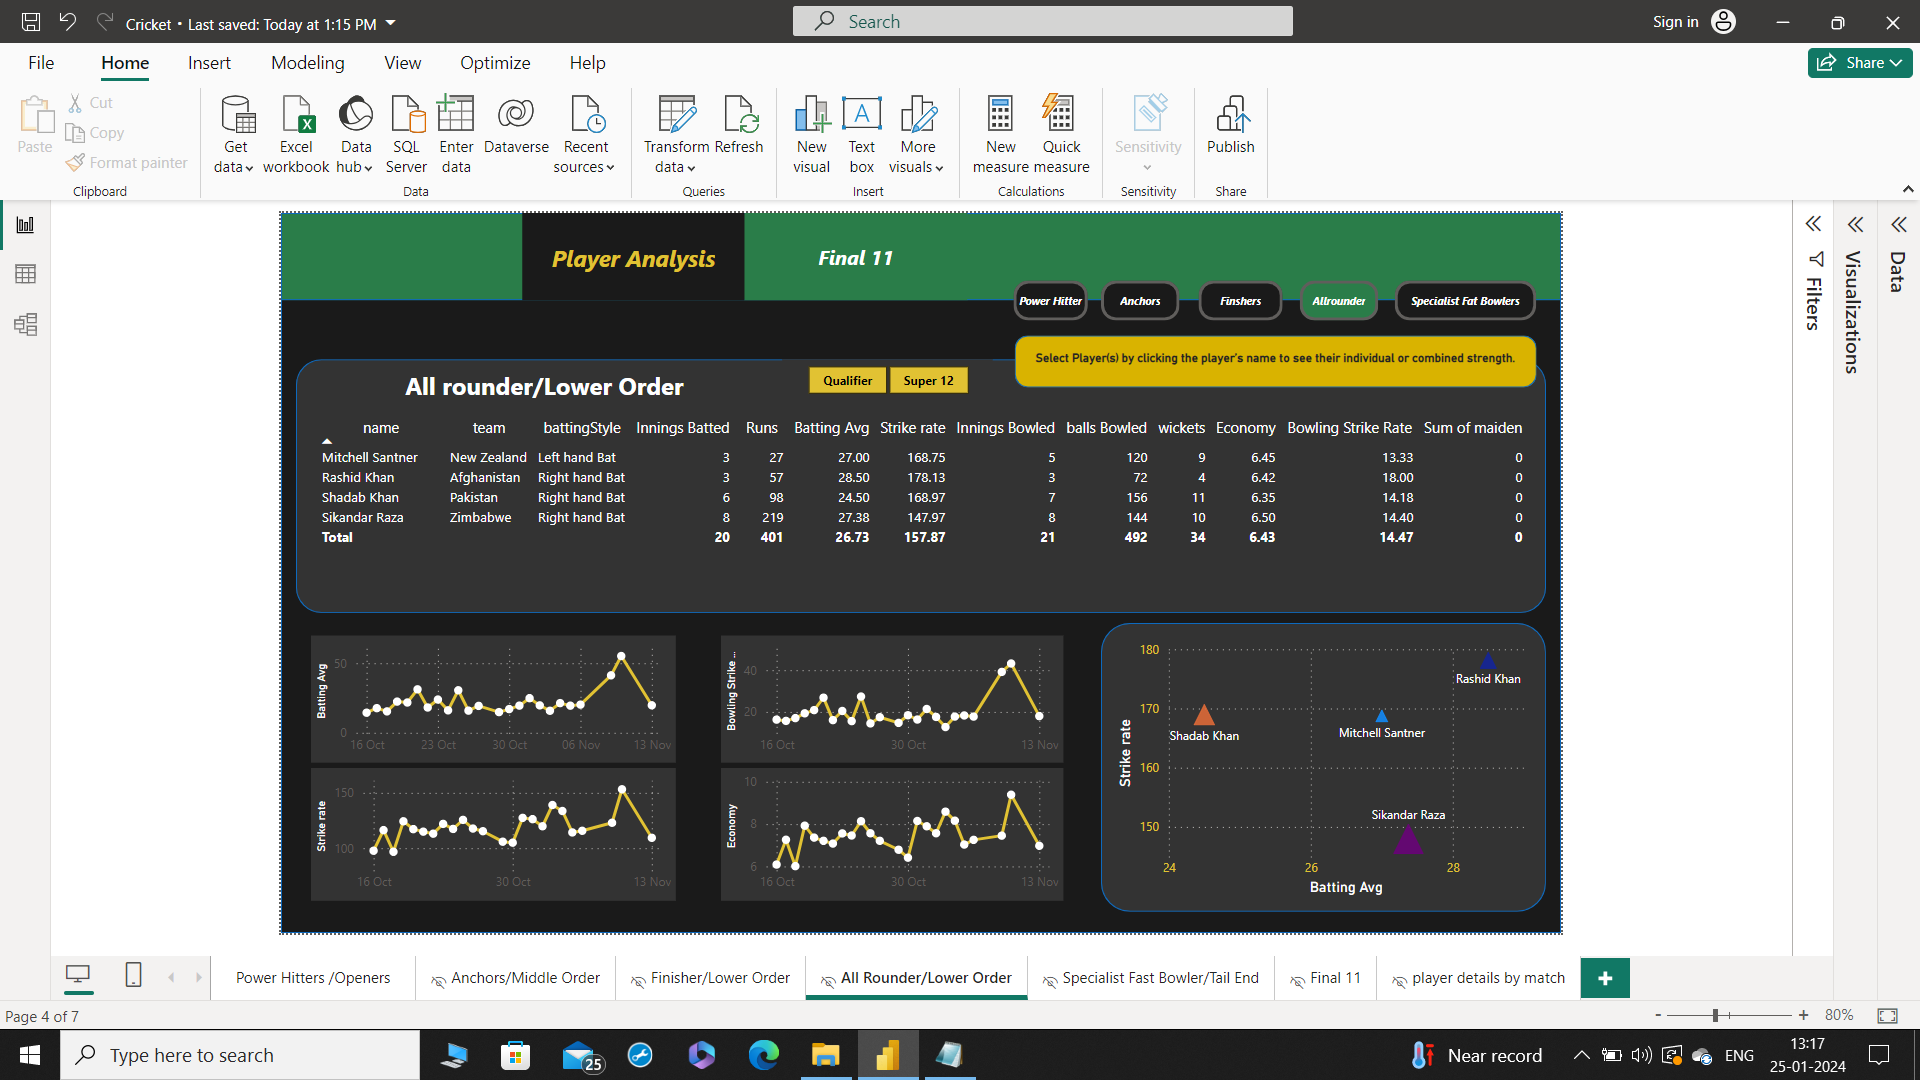

The page's visual inventory and layout, read from the dashboard file:
{"tool":"powerbi","page":{"name":"All Rounder/Lower Order","canvas":[1280,720],"ordinal":3},"visuals":[{"type":"shape","box":[0,78.8,1280,641.2],"z":0},{"type":"shape","box":[0,0,1280,87.1],"z":1000},{"type":"lineChart","fields":{"Y":["Key Measures.Batting Avg"],"Category":["dim_match_summary.matchDate"]},"box":[30,422.5,365,127.5],"z":2000},{"type":"lineChart","fields":{"Y":["Key Measures.Strike rate"],"Category":["dim_match_summary.matchDate"]},"box":[30,555,365,132.5],"z":3000},{"type":"lineChart","fields":{"Y":["Key Measures.Economy"],"Category":["dim_match_summary.matchDate"]},"box":[440,555,342.5,132.5],"z":4000},{"type":"lineChart","fields":{"Y":["Key Measures.Bowling Strike Rate"],"Category":["dim_match_summary.matchDate"]},"box":[440,422.5,342.5,127.5],"z":5000},{"type":"actionButton","box":[241.2,0,222.5,87.5],"z":6000},{"type":"shape","box":[820,410,445,288.8],"z":7000},{"type":"actionButton","box":[463.8,0,222.5,87.5],"z":8000},{"type":"actionButton","box":[732.9,67.1,74.3,40],"z":9000},{"type":"shape","box":[15,146.2,1250,253.8],"z":10000},{"type":"actionButton","box":[820,67.1,78.6,40],"z":11000},{"type":"actionButton","box":[917.1,67.1,84.3,40],"z":12000},{"type":"actionButton","box":[1114.3,67.1,141.4,40],"z":13000},{"type":"slicer","fields":{"Values":["dim_match_summary.stage"]},"box":[501.2,146.2,210,41.2],"z":15000},{"type":"scatterChart","fields":{"X":["Key Measures.Batting Avg"],"Y":["Key Measures.Strike rate"],"Category":["dim_players.name"],"Series":["dim_players.name"],"Size":["Key Measures.Total Runs"]},"box":[831.2,422.5,423.8,265],"z":16000},{"type":"textbox","box":[105.7,151.4,314.3,45.7],"z":17000},{"type":"tableEx","title":"Shortlisted Based On Criteria","fields":{"Values":["dim_players.name","dim_players.team","dim_players.battingStyle","Key Measures.Total Innings Batted","Key Measures.Total Runs","Key Measures.Batting Avg","Key Measures.Strike rate","Key Measures.Total Innings Bowled","Key Measures.balls Bowled","Key Measures.wickets","Key Measures.Economy","Key Measures.Bowling Strike Rate"]},"box":[30,197.1,1225.7,192.9],"z":18000},{"type":"actionButton","box":[1018.6,67.1,78.6,40],"z":19000},{"type":"shape","box":[733.1,122.5,521.9,51.9],"z":19001},{"type":"textbox","title":"Combined Strength","box":[755,137.5,162.5,21.2],"z":19002},{"type":"card","fields":{"Values":["Key Measures.Batting Avg"]},"box":[940,122.1,62.9,51.4],"z":19003},{"type":"card","fields":{"Values":["Key Measures.Strike rate"]},"box":[1008.6,122.1,62.9,51.4],"z":19004},{"type":"card","fields":{"Values":["Key Measures.Economy"]},"box":[1077.1,122.9,62.9,51.4],"z":19005},{"type":"card","fields":{"Values":["Key Measures.Bowling Strike Rate"]},"box":[1147.1,122.1,68.6,51.4],"z":19006},{"type":"card","fields":{"Values":["Key Measures.Display Text"]},"box":[747.5,130,493.8,32.5],"z":19007}]}

Visuals, with their boxes on the page's 1280x720 design canvas (x1, y1, x2, y2). These are canvas units, not pixel positions in the 1920x1080 screenshot, which may show the page scaled, cropped or inside an application window:
shape: (x1=0, y1=79, x2=1280, y2=720)
shape: (x1=0, y1=0, x2=1280, y2=87)
lineChart - Key Measures.Batting Avg x dim_match_summary.matchDate: (x1=30, y1=422, x2=395, y2=550)
lineChart - Key Measures.Strike rate x dim_match_summary.matchDate: (x1=30, y1=555, x2=395, y2=688)
lineChart - Key Measures.Economy x dim_match_summary.matchDate: (x1=440, y1=555, x2=782, y2=688)
lineChart - Key Measures.Bowling Strike Rate x dim_match_summary.matchDate: (x1=440, y1=422, x2=782, y2=550)
actionButton: (x1=241, y1=0, x2=464, y2=88)
shape: (x1=820, y1=410, x2=1265, y2=699)
actionButton: (x1=464, y1=0, x2=686, y2=88)
actionButton: (x1=733, y1=67, x2=807, y2=107)
shape: (x1=15, y1=146, x2=1265, y2=400)
actionButton: (x1=820, y1=67, x2=899, y2=107)
actionButton: (x1=917, y1=67, x2=1001, y2=107)
actionButton: (x1=1114, y1=67, x2=1256, y2=107)
slicer - dim_match_summary.stage: (x1=501, y1=146, x2=711, y2=187)
scatterChart - Key Measures.Batting Avg x Key Measures.Strike rate: (x1=831, y1=422, x2=1255, y2=688)
textbox: (x1=106, y1=151, x2=420, y2=197)
"Shortlisted Based On Criteria" tableEx: (x1=30, y1=197, x2=1256, y2=390)
actionButton: (x1=1019, y1=67, x2=1097, y2=107)
shape: (x1=733, y1=122, x2=1255, y2=174)
"Combined Strength" textbox: (x1=755, y1=138, x2=918, y2=159)
card - Key Measures.Batting Avg: (x1=940, y1=122, x2=1003, y2=174)
card - Key Measures.Strike rate: (x1=1009, y1=122, x2=1072, y2=174)
card - Key Measures.Economy: (x1=1077, y1=123, x2=1140, y2=174)
card - Key Measures.Bowling Strike Rate: (x1=1147, y1=122, x2=1216, y2=174)
card - Key Measures.Display Text: (x1=748, y1=130, x2=1241, y2=162)
